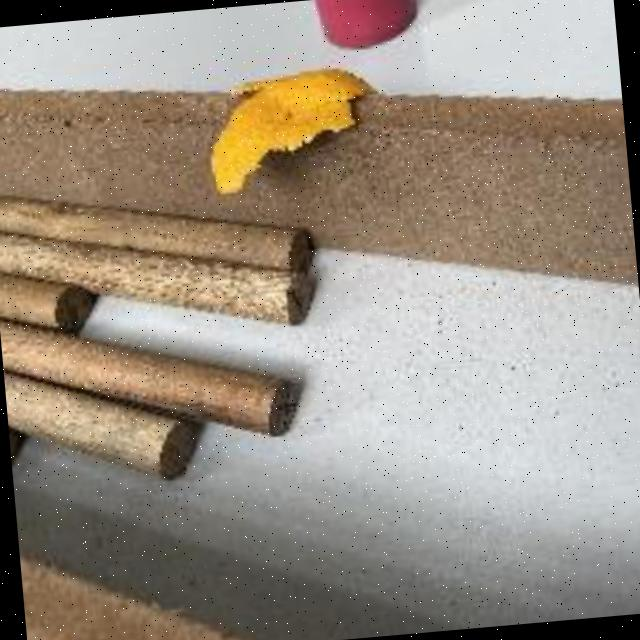orange-peel: (197, 58, 379, 196)
